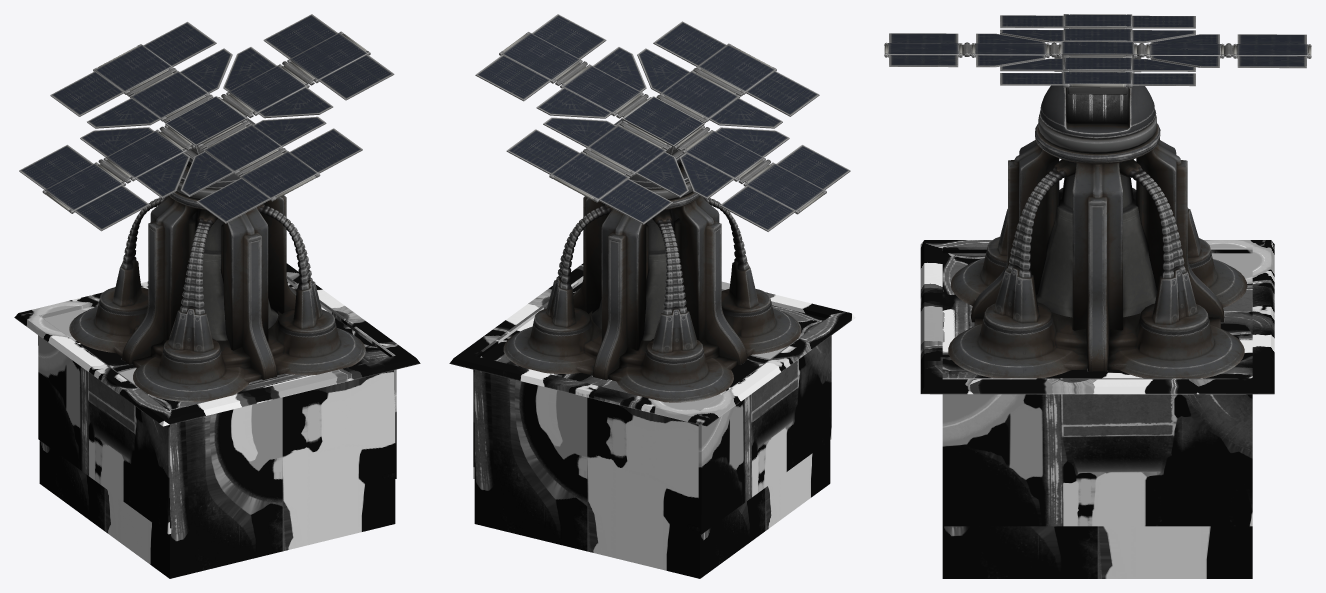
Rendered from gene.obj.
3 renders of one model, left to right at view 1: azimuth 30°, elevation 25°; view 2: azimuth 150°, elevation 25°; view 3: azimuth 270°, elevation 25°, orthographic. The views are drawn at different scales.
Visible parts, largest first — view 1: Defense_Gun_Tower.003_Tower_Kable.002, Cube.001_Cube.002, Defense_Gun_Tower_Tower_Kable.009, Defense_Gun_Tower.001_Tower_Kable.001; view 2: Defense_Gun_Tower.003_Tower_Kable.002, Cube.001_Cube.002, Defense_Gun_Tower_Tower_Kable.009, Defense_Gun_Tower.001_Tower_Kable.001; view 3: Defense_Gun_Tower_Tower_Kable.009, Defense_Gun_Tower.001_Tower_Kable.001, Defense_Gun_Tower.003_Tower_Kable.002, Cube.001_Cube.002.
Boxes of the visible parts, <box> form: Defense_Gun_Tower.003_Tower_Kable.002: <box>14,263,420,578</box>; Cube.001_Cube.002: <box>19,14,394,231</box>; Defense_Gun_Tower_Tower_Kable.009: <box>69,119,365,402</box>; Defense_Gun_Tower.001_Tower_Kable.001: <box>38,276,396,534</box>; Defense_Gun_Tower.003_Tower_Kable.002: <box>449,263,855,578</box>; Cube.001_Cube.002: <box>475,14,850,231</box>; Defense_Gun_Tower_Tower_Kable.009: <box>503,119,801,402</box>; Defense_Gun_Tower.001_Tower_Kable.001: <box>473,276,831,534</box>; Defense_Gun_Tower_Tower_Kable.009: <box>948,71,1247,378</box>; Defense_Gun_Tower.001_Tower_Kable.001: <box>942,247,1252,526</box>; Defense_Gun_Tower.003_Tower_Kable.002: <box>920,240,1274,578</box>; Cube.001_Cube.002: <box>884,14,1311,87</box>.
Size of the model in its own units: 186 by 254 by 193.
4 materials, 4 textured.
